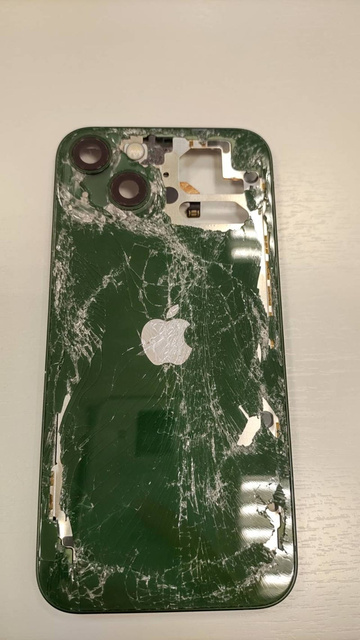crack_phone: (30, 118, 325, 623)
